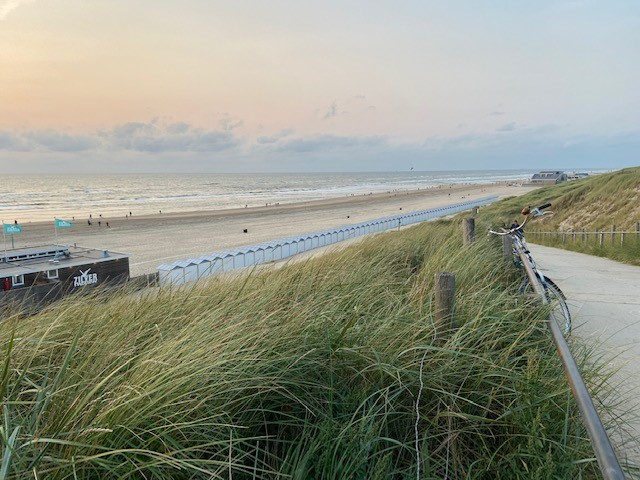pad: (499, 225, 640, 450)
